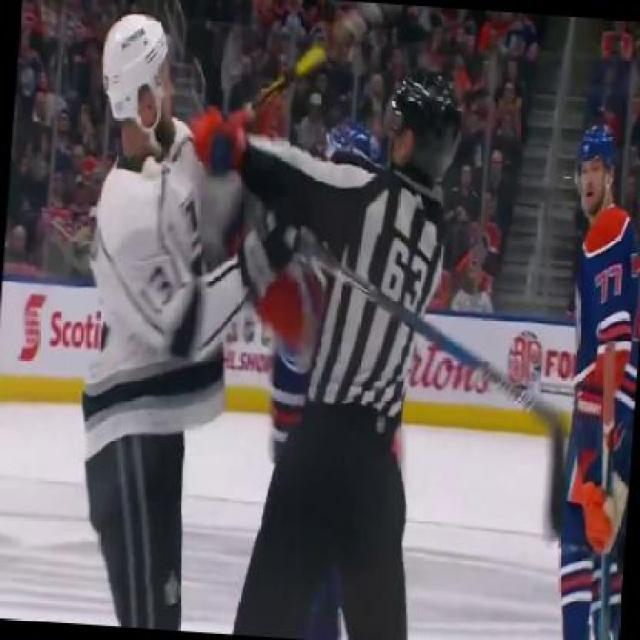fight: (69, 13, 462, 567)
non-fight: (536, 120, 638, 638)
